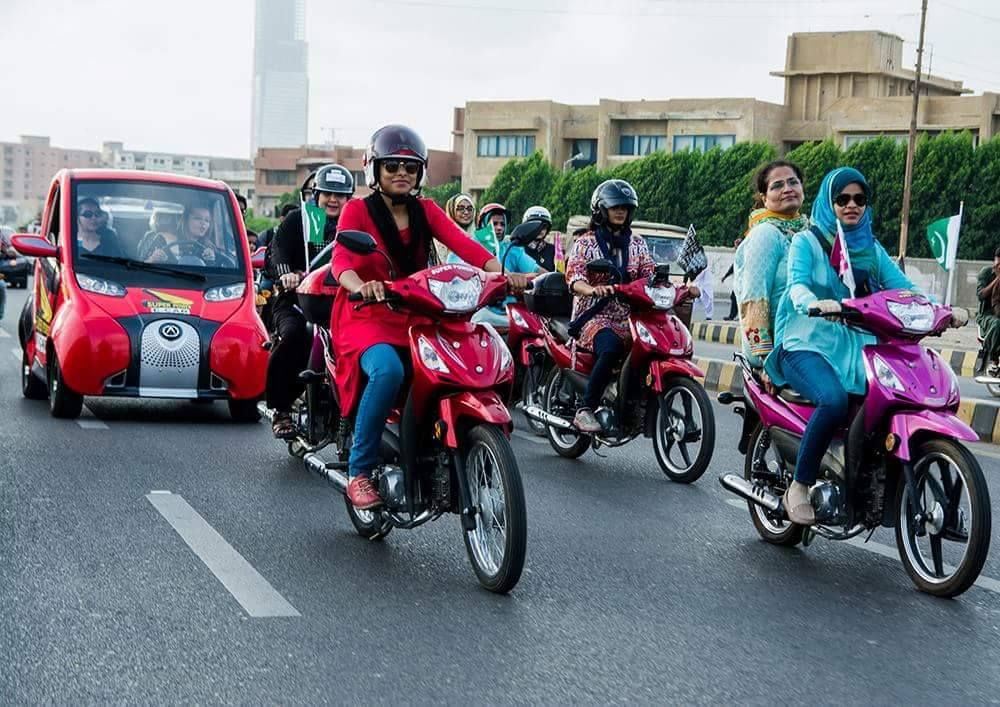with_helmet: (368, 127, 429, 178), (592, 180, 635, 221)
